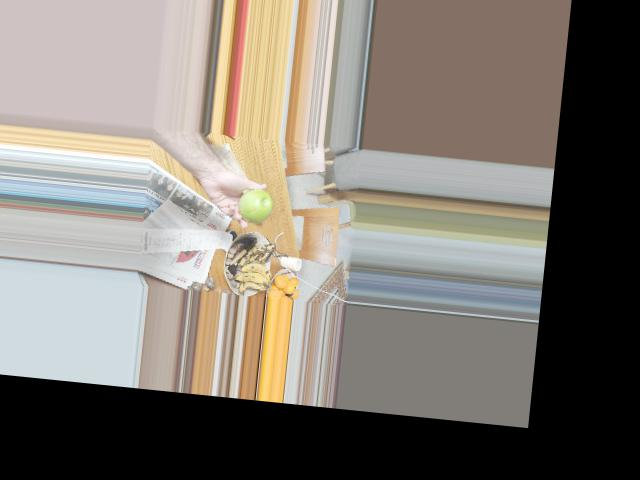apple: (232, 184, 278, 225)
